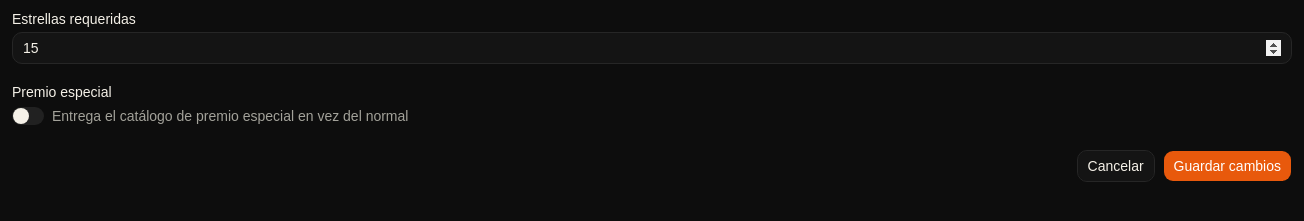
Test: RewardMilestoneForm mapeo de errores del servidor › mapea un 400 de colisión de starsRequired al campo, no como error general
Click the button "Guardar cambios".
click(1227, 166)  # box 1163,150 -> 1292,182
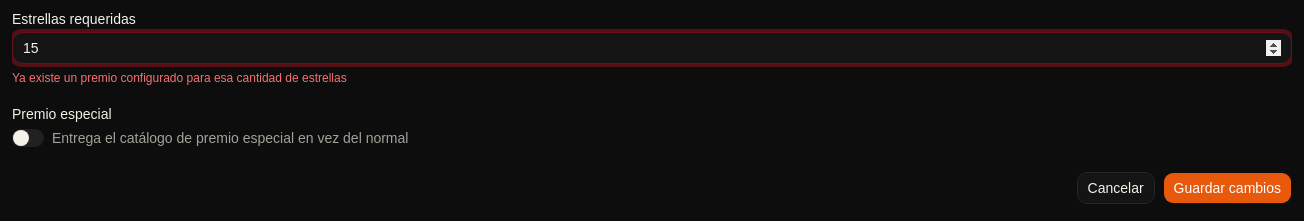
Check: the text "Ya existe un premio configurado para esa cantidad de estrellas" is shown, box 12,71 -> 347,85
